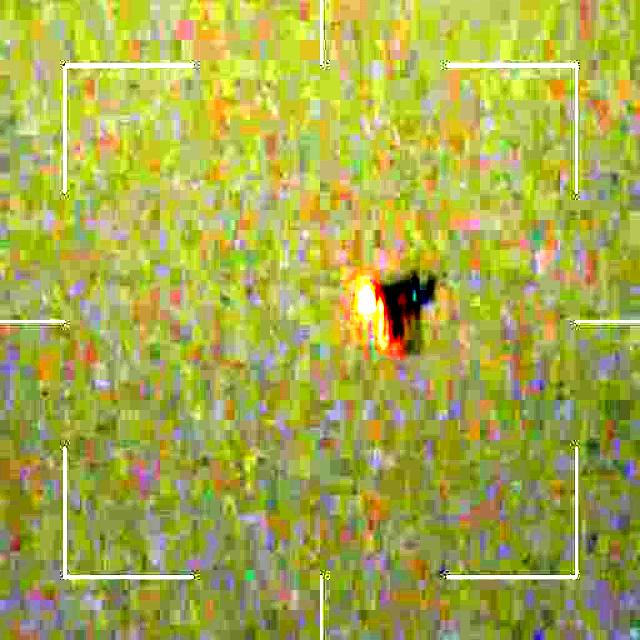bird: (350, 264, 441, 345)
